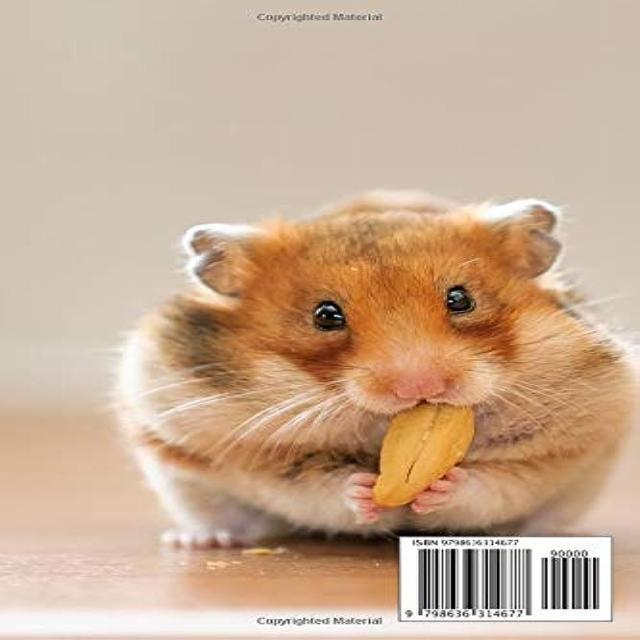hamster: (117, 188, 630, 535)
